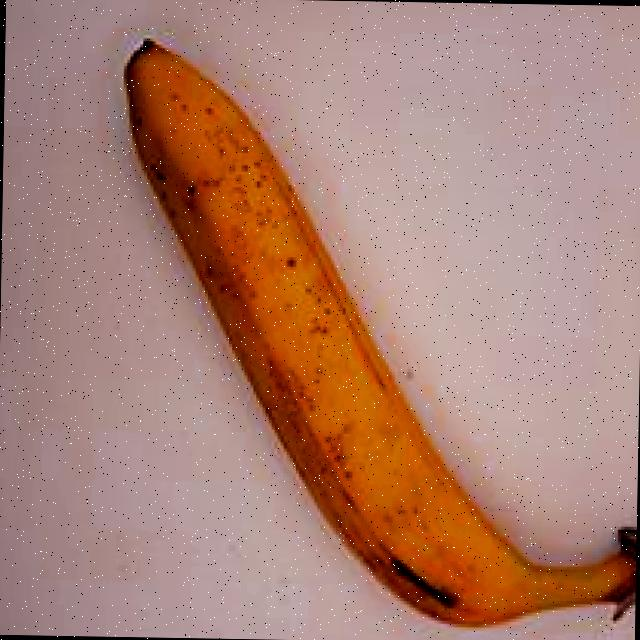Overripe: (78, 14, 640, 640)
